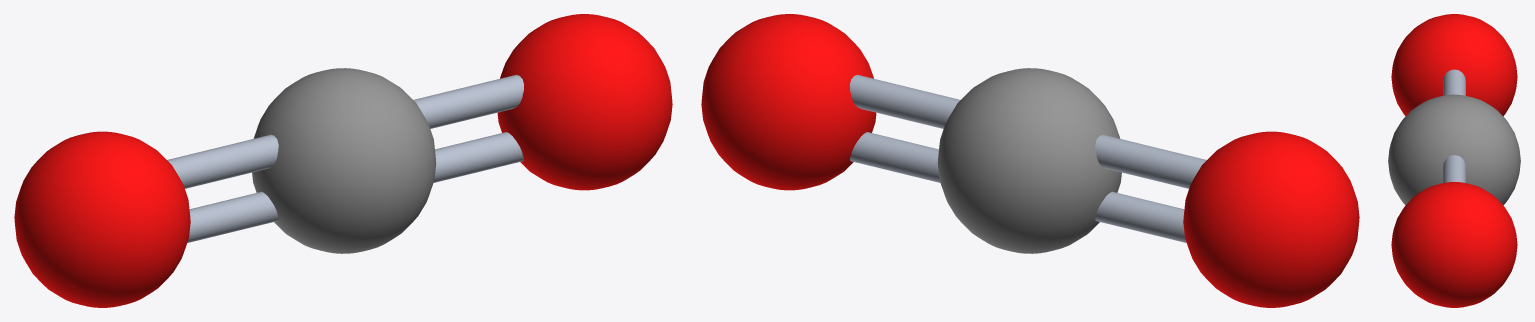
3 renders of one model, left to right at view 1: azimuth 30°, elevation 25°; view 2: azimuth 150°, elevation 25°; view 3: azimuth 270°, elevation 25°, orthographic. The views are drawn at different scales.
Parts seen in each view (by area): view 1: O (×2), C, bond (×4); view 2: O (×2), C, bond (×4); view 3: O (×2), C, bond (×2).
Boxes of the visible parts, left/top/right/bottom form: O (×2): left=14, top=14, right=672, bottom=307; C: left=252, top=68, right=436, bottom=253; bond (×4): left=167, top=74, right=523, bottom=242; O (×2): left=701, top=14, right=1359, bottom=307; C: left=937, top=68, right=1121, bottom=253; bond (×4): left=850, top=74, right=1206, bottom=242; O (×2): left=1391, top=14, right=1517, bottom=307; C: left=1388, top=94, right=1520, bottom=204; bond (×2): left=1443, top=69, right=1465, bottom=182.
Size of the model in its own units: 0.22 by 0.0558 by 0.0558.
